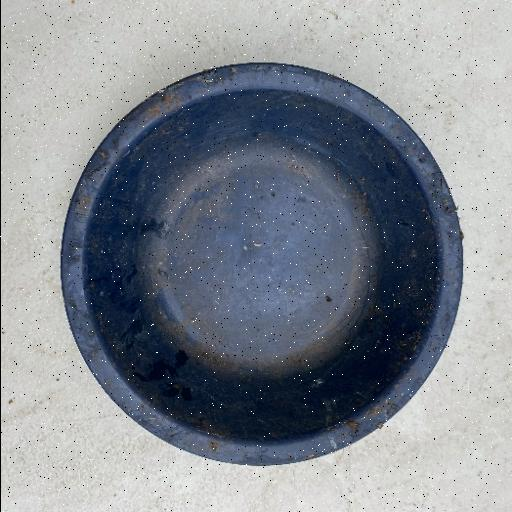Plastic: (60, 61, 464, 467)
